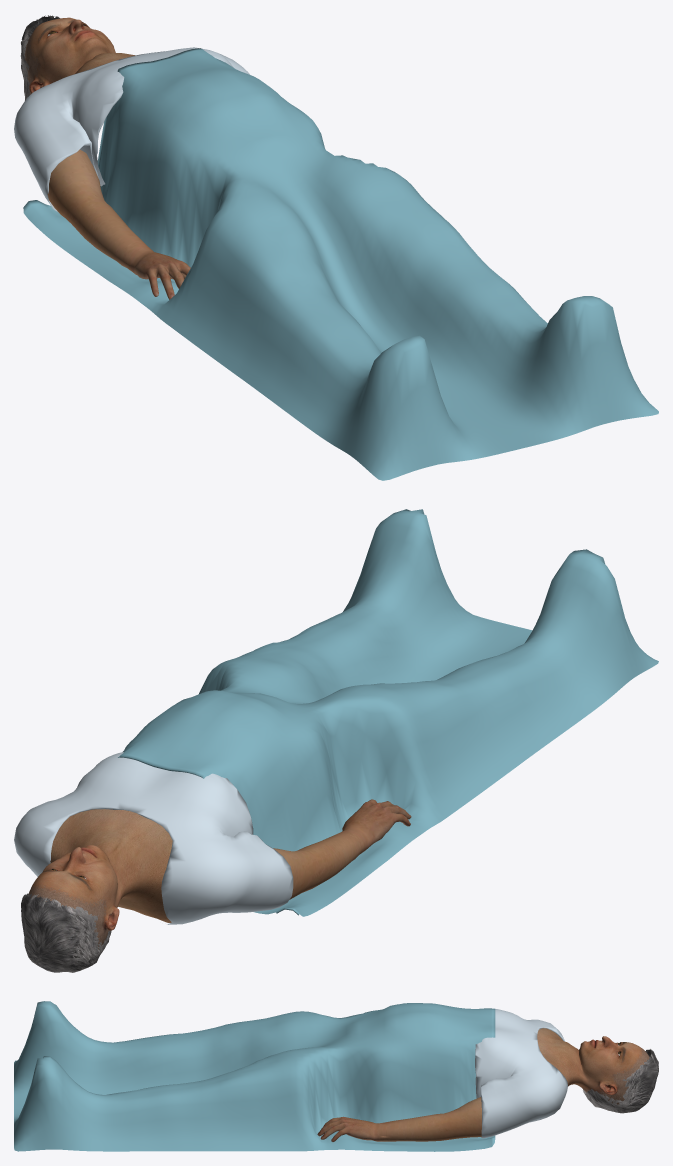
3 renders of one model, top to bottom at view 1: azimuth 30°, elevation 25°; view 2: azimuth 150°, elevation 25°; view 3: azimuth 270°, elevation 25°, orthographic. The views are drawn at different scales.
Visible parts, largest first — view 1: sheet, gown, arms, body; view 2: sheet, gown, body, hair, arms; view 3: sheet, gown, body, arms, hair.
Part boxes in pixels (x1,y1,x2,y2): sheet: (23,48,658,480); gown: (14,47,249,212); arms: (47,149,190,299); body: (24,17,134,94); sheet: (118,509,658,916); gown: (14,752,293,924); body: (28,809,172,949); hair: (21,893,111,972); arms: (273,799,411,899); sheet: (14,1001,495,1151); gown: (475,1009,567,1138); body: (537,1028,649,1104); arms: (317,1097,481,1141); hair: (583,1049,658,1113).
Size of the model in its own units: 0.6454 by 0.3217 by 1.93.
8 materials, 6 textured.
